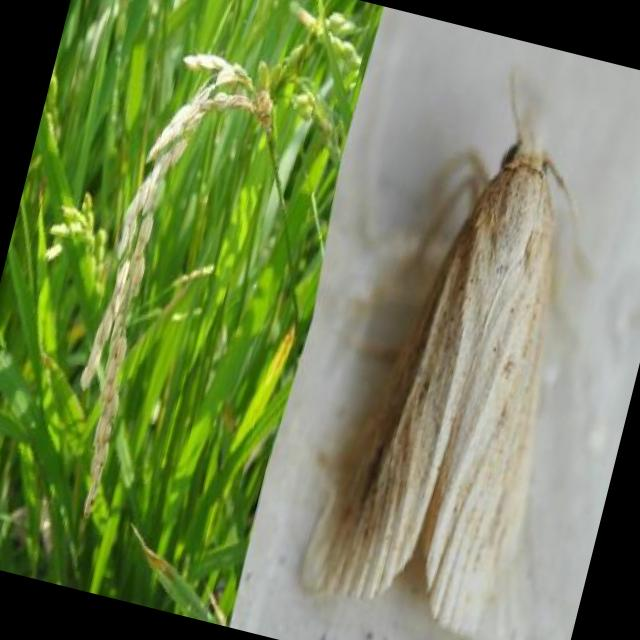stem-borer: (293, 75, 636, 640)
